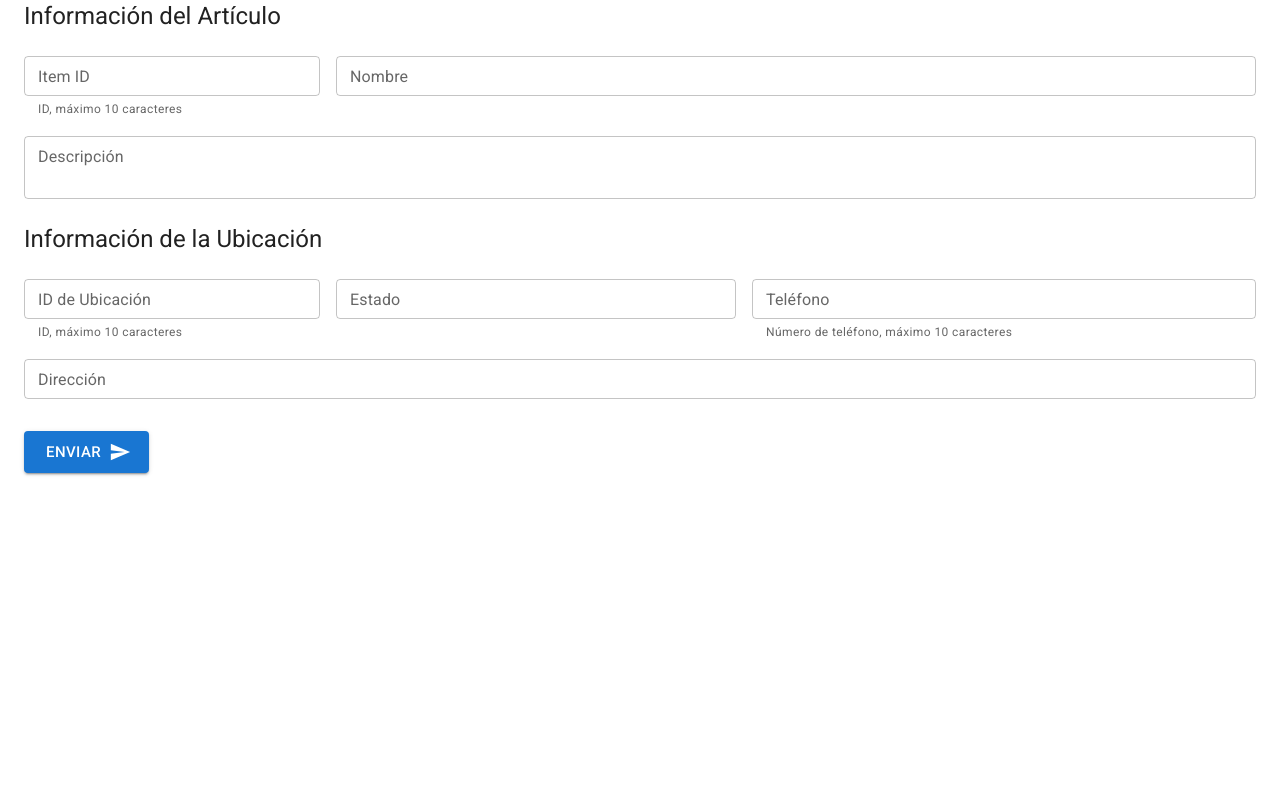
Hace un registro exitoso
Type "1" into the number field labelled "Item ID".
click(172, 76); type("1")  # box [24,56,320,96]
Type "Item 1" into the field labelled "Nombre".
click(796, 76); type("Item 1")  # box [336,56,1256,96]
Type "Item 1" into the text box labelled "Descripción".
click(640, 167); type("Item 1")  # box [38,144,1242,190]
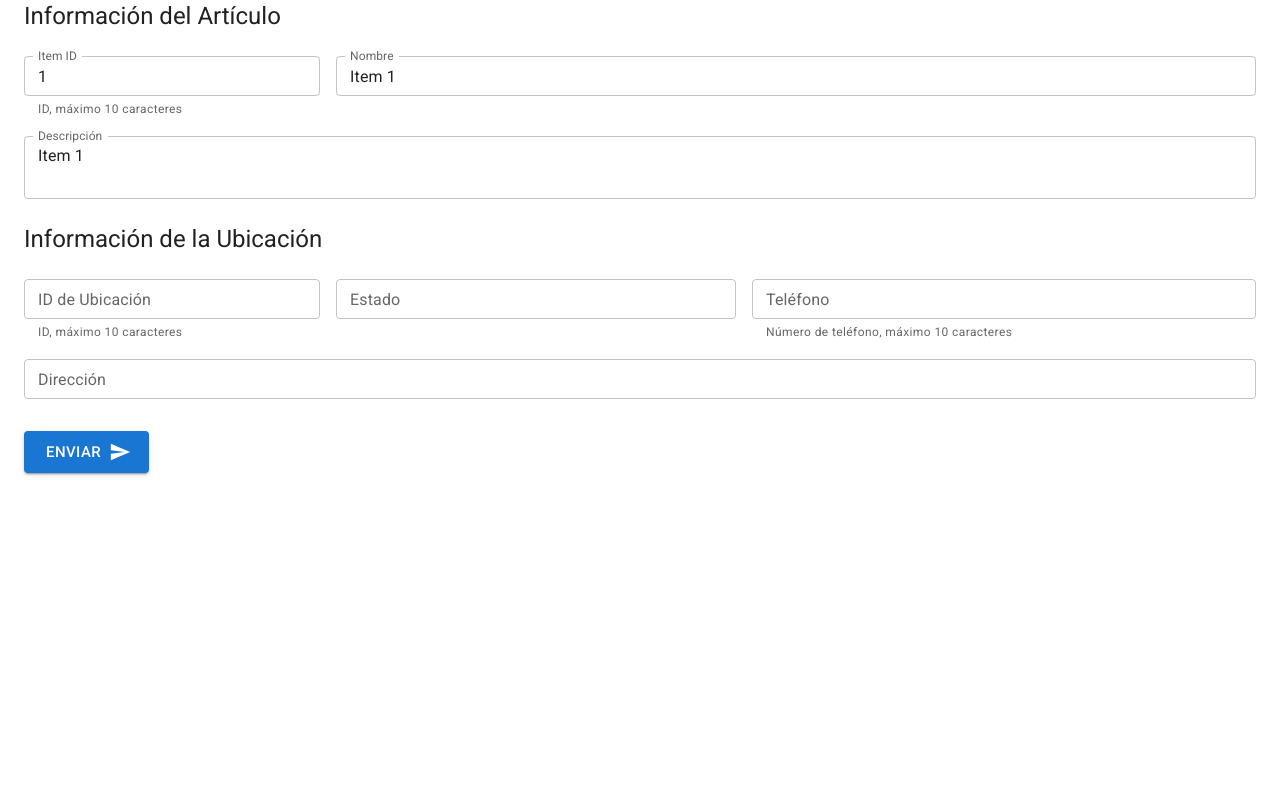
Type "1" into the number field labelled "ID de Ubicación".
click(172, 299); type("1")  # box [24,279,320,319]
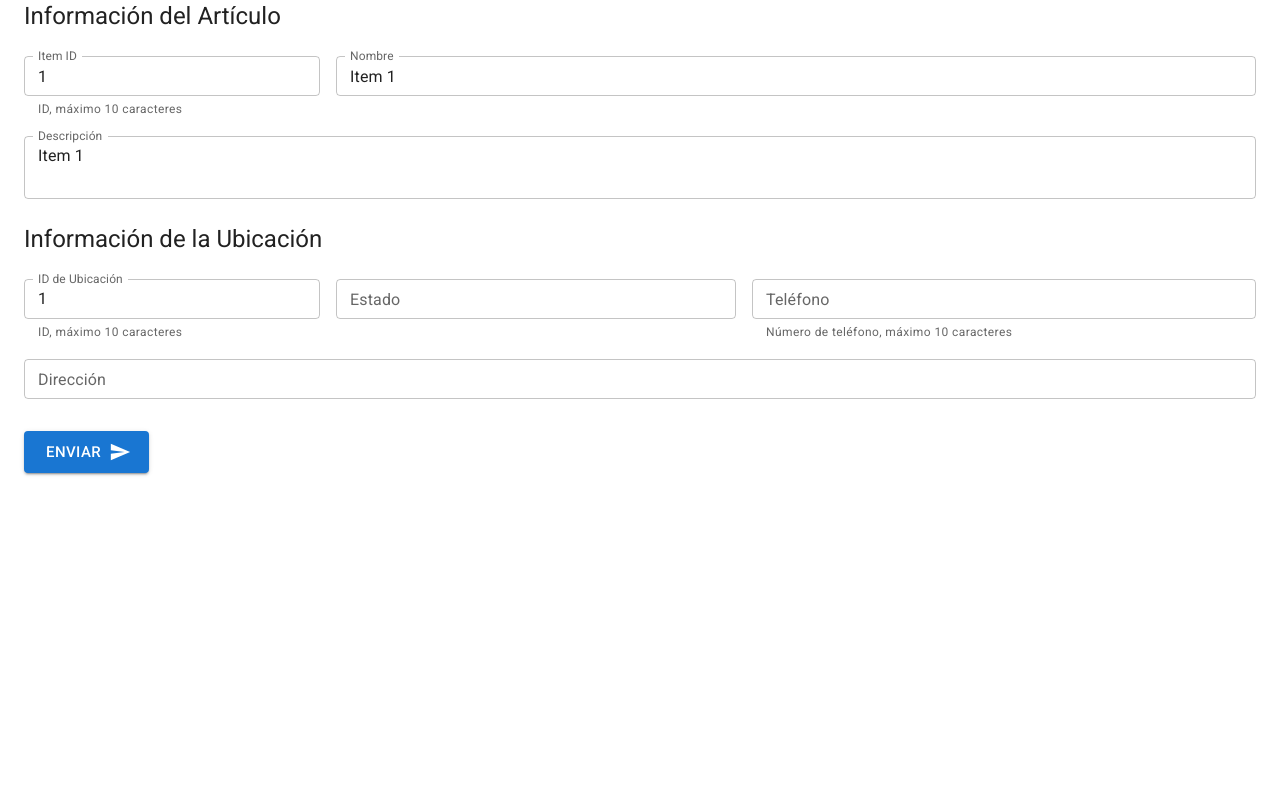
Type "CDMX" into the field labelled "Estado".
click(536, 299); type("CDMX")  # box [336,279,736,319]
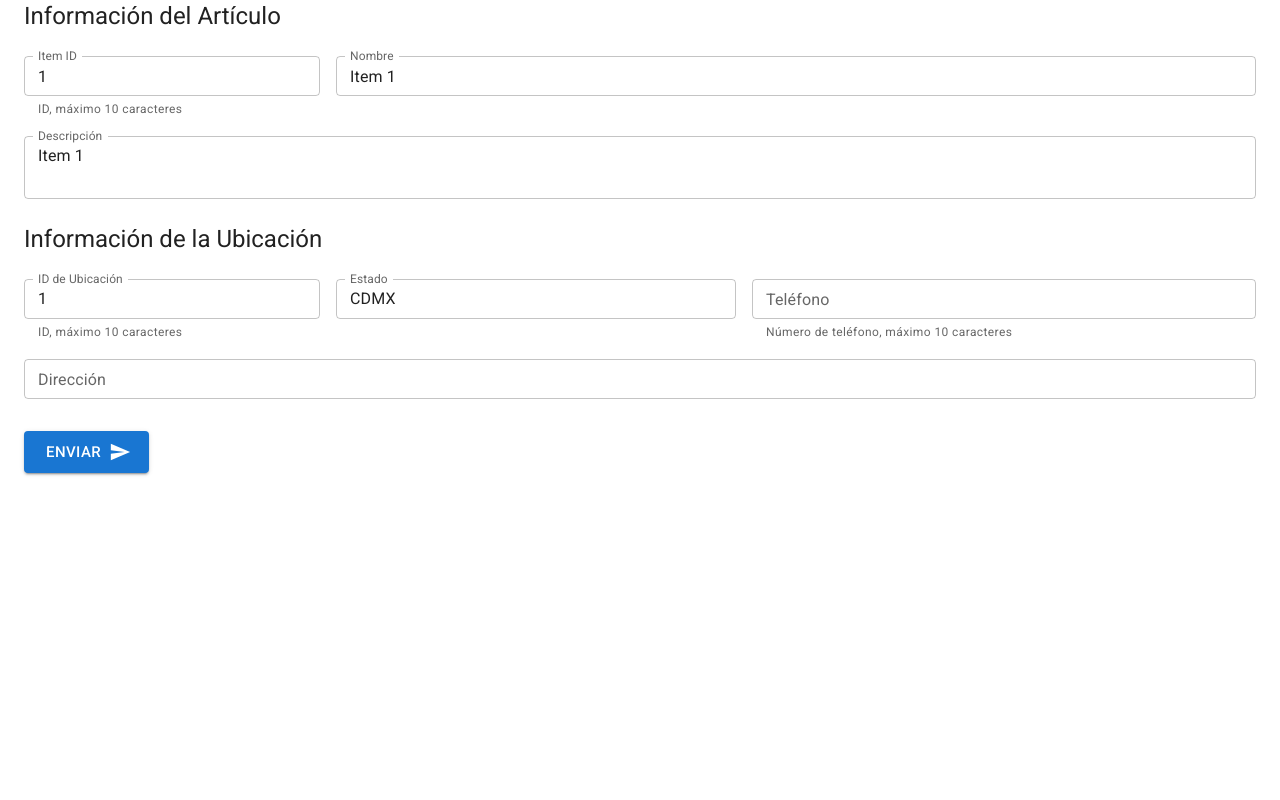
Type "av 1 st 1" into the field labelled "Dirección".
click(640, 379); type("av 1 st 1")  # box [24,359,1256,399]
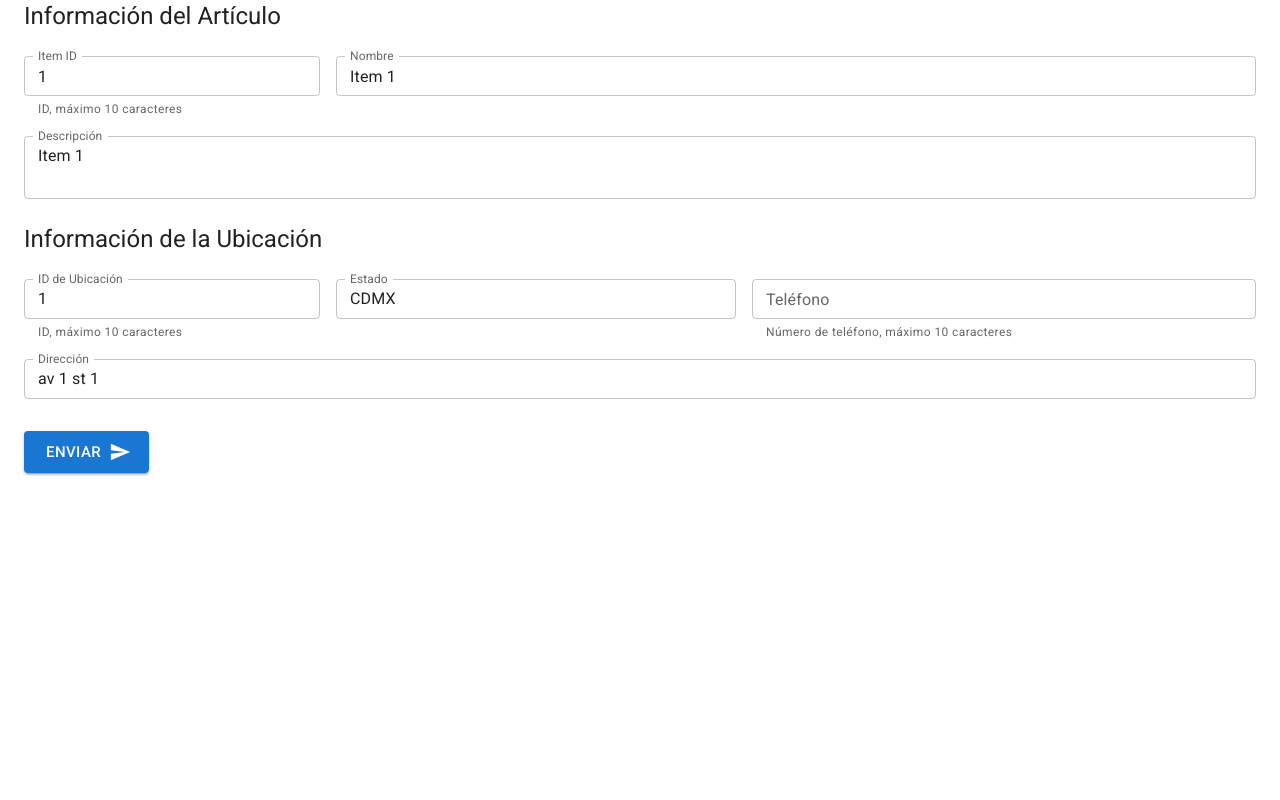
Type "5515662716" into the number field labelled "Teléfono".
click(1004, 299); type("5515662716")  # box [752,279,1256,319]
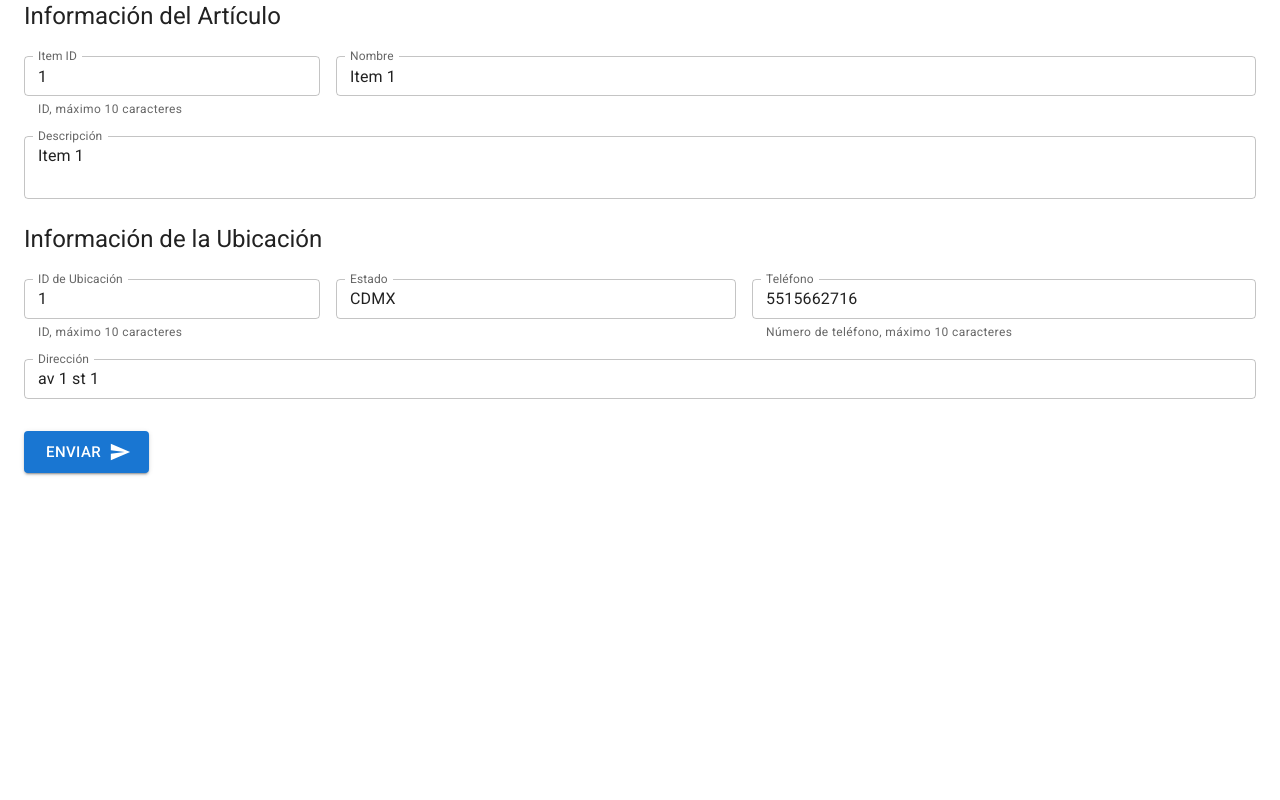
Click the button.
click(87, 452)  # box [24,431,149,473]
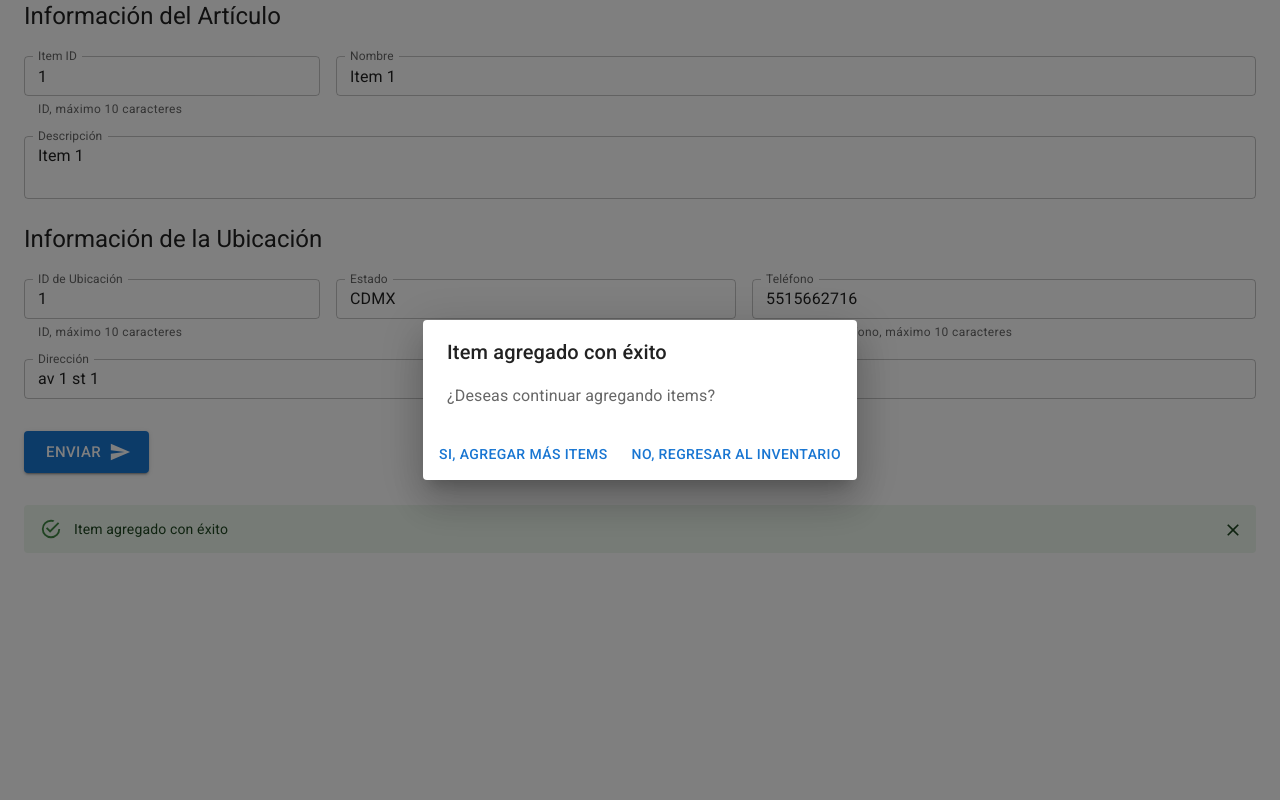
Expected: the heading "Item agregado con éxito" is shown, [447,340,667,364]
